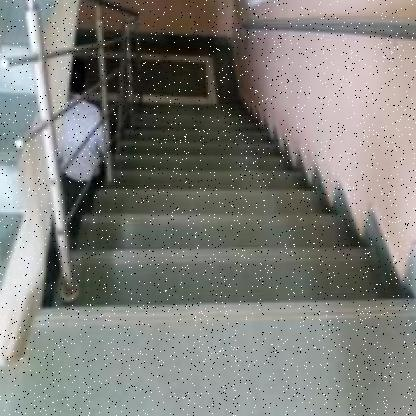stair_down: (67, 183, 387, 339)
